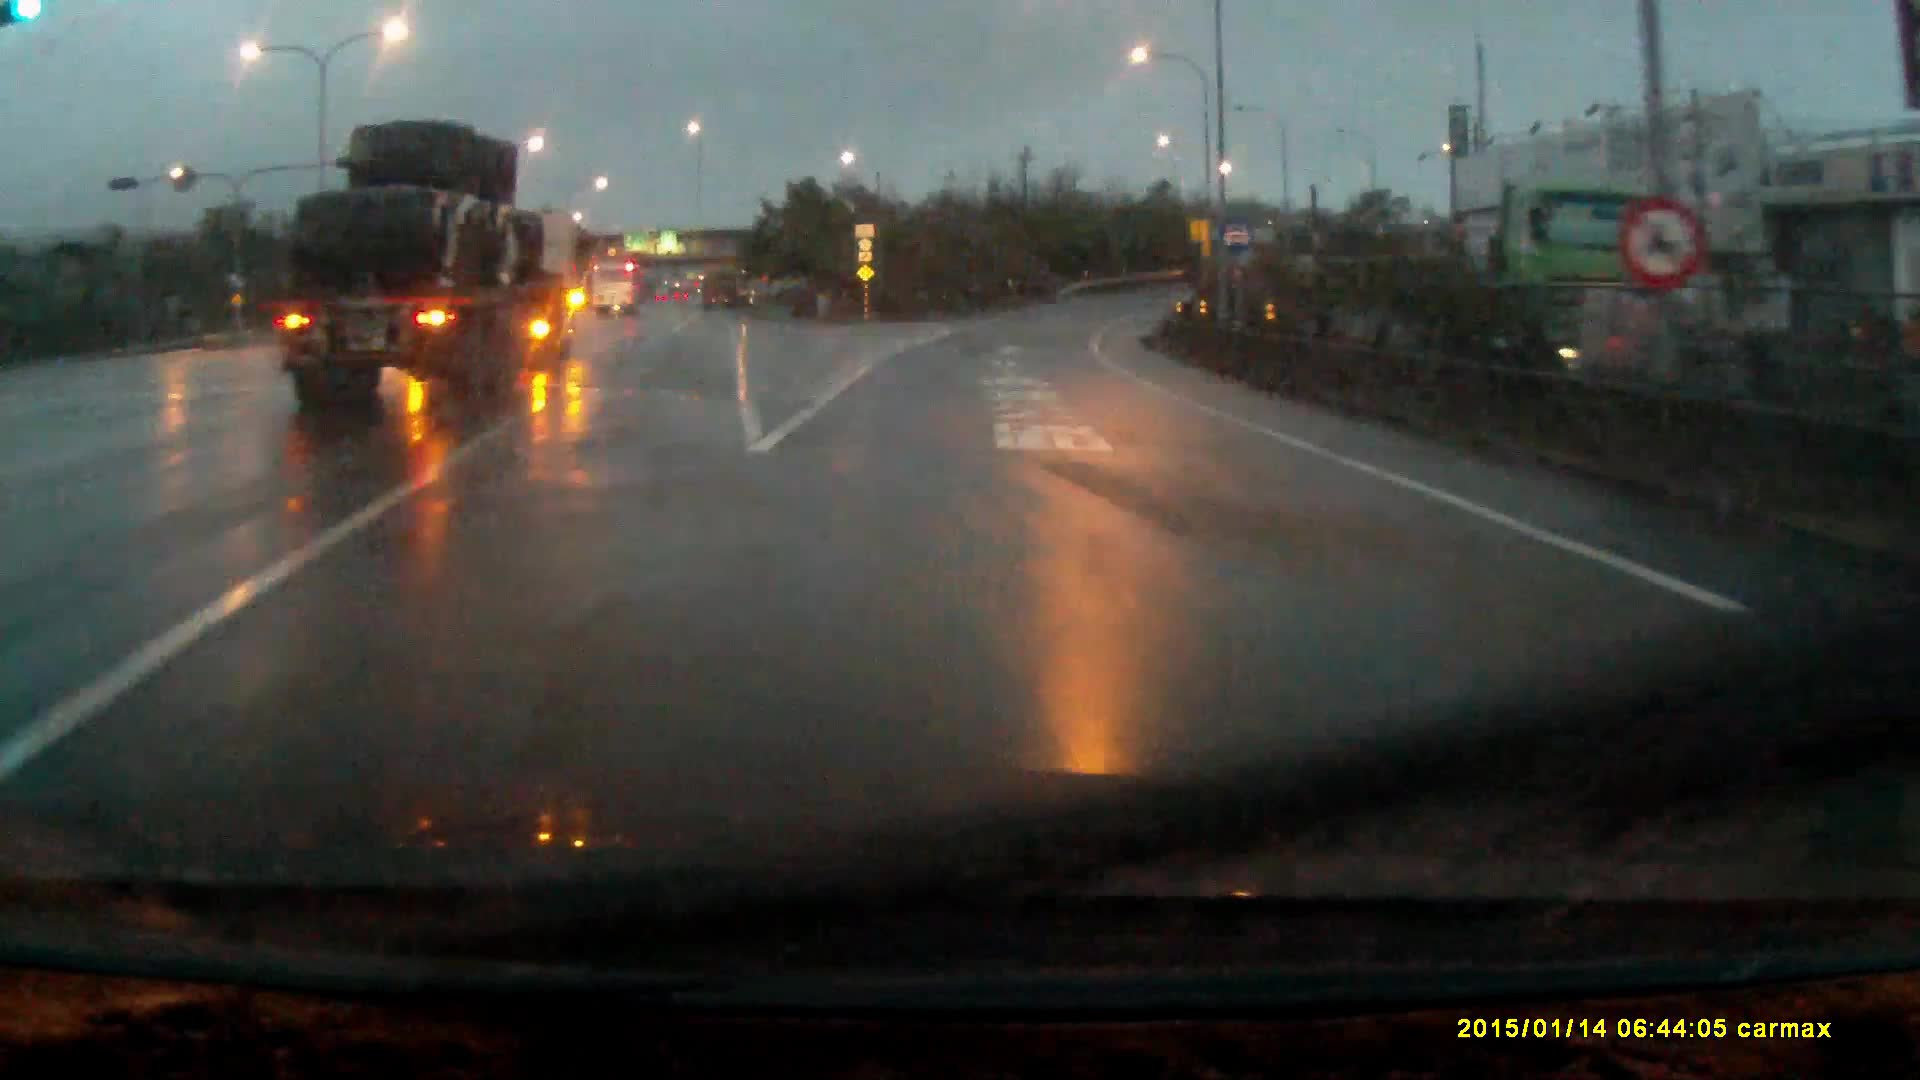vehicle: (274, 125, 587, 417), (593, 264, 649, 320)
